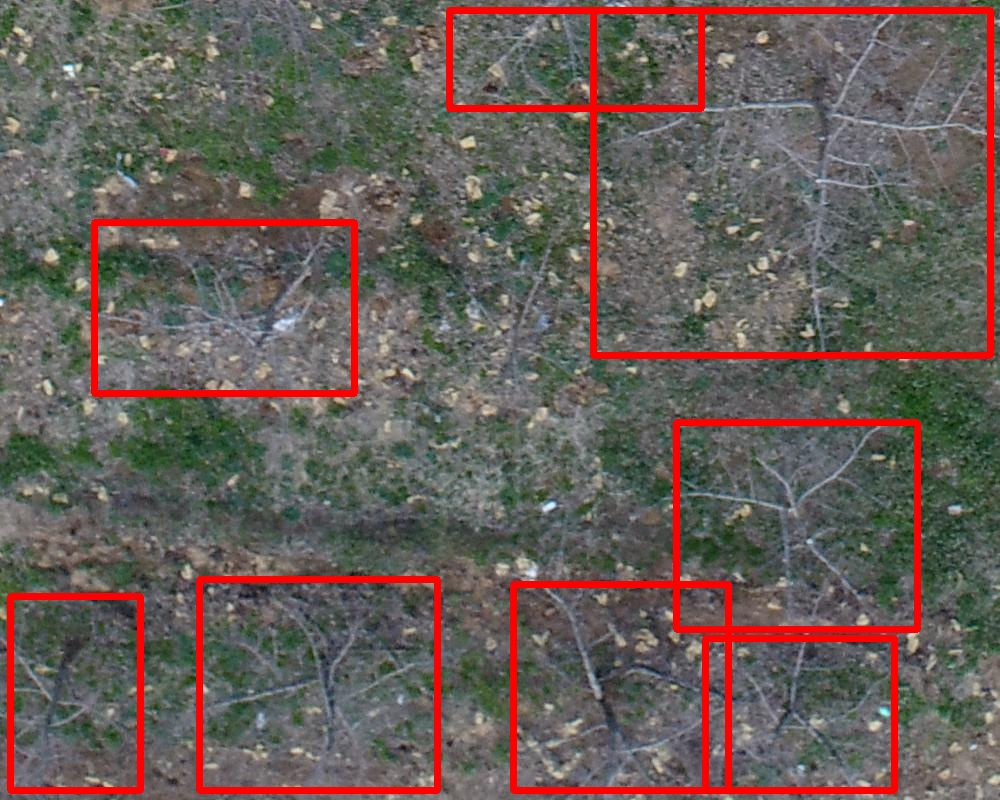apple: (593, 10, 990, 355), (199, 579, 437, 790), (676, 422, 917, 629), (94, 222, 354, 393), (513, 584, 728, 790), (705, 638, 894, 790), (10, 596, 140, 790), (449, 10, 701, 108)
